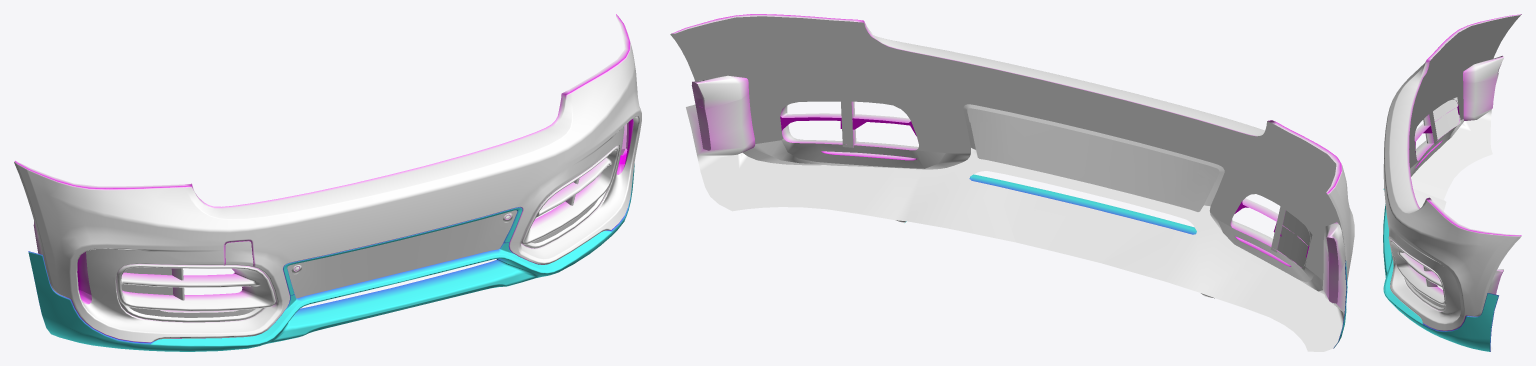
File: Car_Mini_CountrymanJCW_2017_BumperF_SetA_AltE.fbx
3 views of the same model, side by side, from view 1: azimuth 30°, elevation 25°; view 2: azimuth 150°, elevation 25°; view 3: azimuth 270°, elevation 25° (orthographic). The views are drawn at different scales.
Parts seen in each view (by area): view 1: BumperF 6; view 2: BumperF 6; view 3: BumperF 6.
Part boxes in pixels (x1=…): BumperF 6: x1=14, y1=14, x2=641, y2=351; BumperF 6: x1=670, y1=14, x2=1354, y2=351; BumperF 6: x1=1383, y1=14, x2=1521, y2=351.
Bounding box in the file's own units: 1.75 × 0.4741 × 0.4608.
